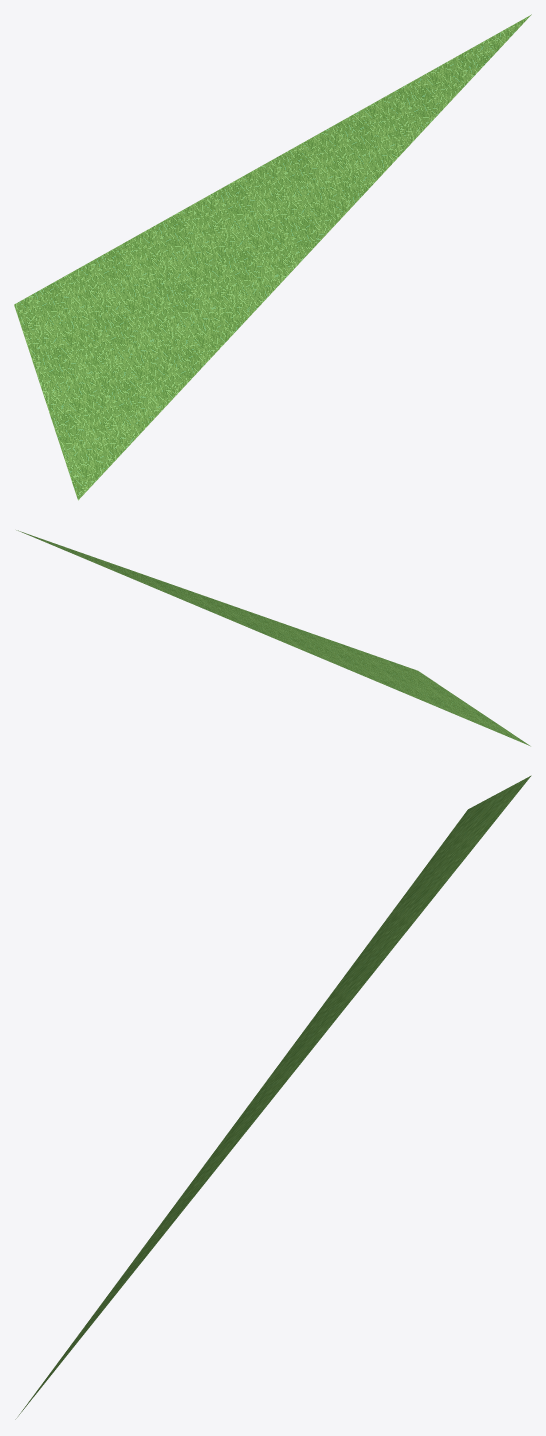
The model's file is kd_stage_136599_10_34.glb.
The picture shows the model from 3 angles, top to bottom: view 1: azimuth 90°, elevation 25°; view 2: azimuth 150°, elevation 25°; view 3: azimuth 270°, elevation 25°; orthographic projection. The views are drawn at different scales.
Visible parts, largest first — view 1: kd_stage_136599_10_34; view 2: kd_stage_136599_10_34; view 3: kd_stage_136599_10_34.
Boxes of the visible parts, left/top/right/bottom form: kd_stage_136599_10_34: left=14, top=14, right=531, bottom=500; kd_stage_136599_10_34: left=16, top=530, right=530, bottom=746; kd_stage_136599_10_34: left=15, top=775, right=531, bottom=1419.
Bounding box in the file's own units: 53.6 × 8.11 × 21.36.
1 material, 1 textured.
